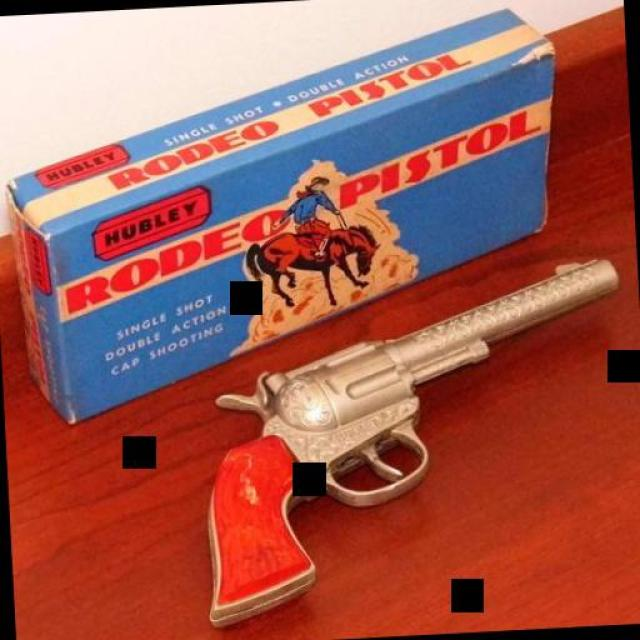gun: (173, 242, 638, 634)
